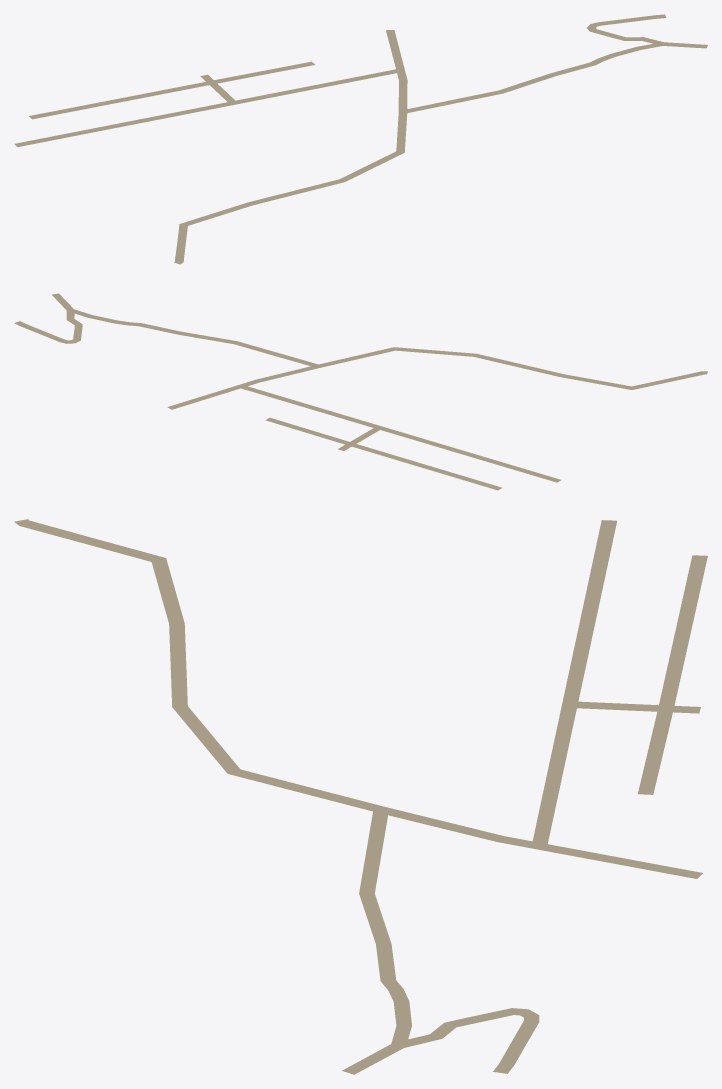
3 renders of one model, top to bottom at view 1: azimuth 30°, elevation 25°; view 2: azimuth 150°, elevation 25°; view 3: azimuth 270°, elevation 25°, orthographic. The views are drawn at different scales.
Parts seen in each view (by area): view 1: ground; view 2: ground; view 3: ground.
Boxes of the visible parts, left/top/right/bottom form: ground: left=14, top=14, right=707, bottom=264; ground: left=14, top=293, right=707, bottom=490; ground: left=14, top=519, right=707, bottom=1074.
Bounding box in the file's own units: 503 × 0 × 265.
